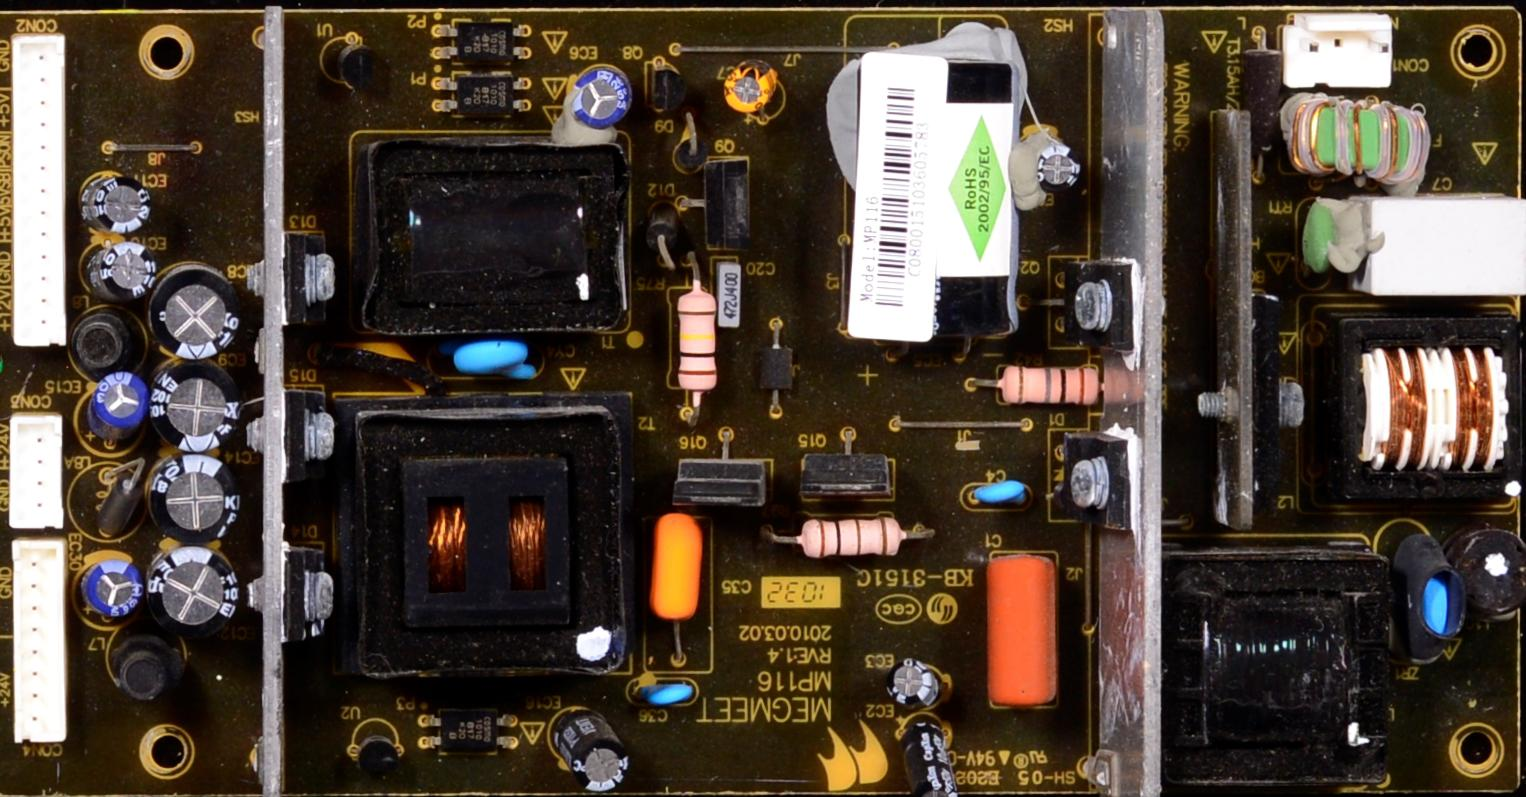Capacitor Jumper: (638, 510, 714, 673), (151, 360, 244, 454), (153, 264, 239, 359), (151, 460, 245, 542), (152, 548, 238, 636), (557, 707, 624, 796), (569, 67, 635, 133), (90, 242, 158, 304), (89, 368, 151, 428), (444, 339, 534, 380), (86, 559, 143, 623), (88, 168, 146, 230), (721, 62, 771, 120), (711, 253, 744, 331), (627, 680, 697, 704)
Connector: (10, 32, 70, 348), (12, 539, 71, 744), (985, 552, 1061, 708), (1281, 14, 1392, 89), (9, 414, 67, 530), (962, 483, 1032, 505)
Resistor Jumper: (668, 275, 725, 403), (767, 522, 932, 559), (988, 369, 1107, 405)
Transistor: (847, 50, 1016, 342), (670, 458, 772, 506), (799, 451, 894, 500), (701, 160, 748, 246)
